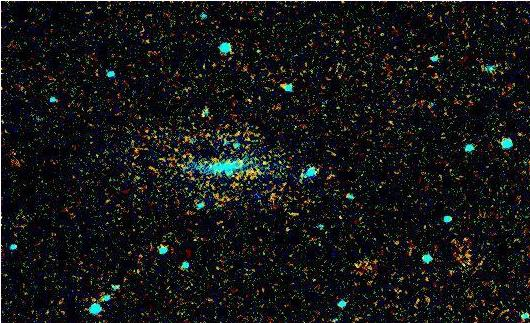star: (247, 184, 277, 214)
